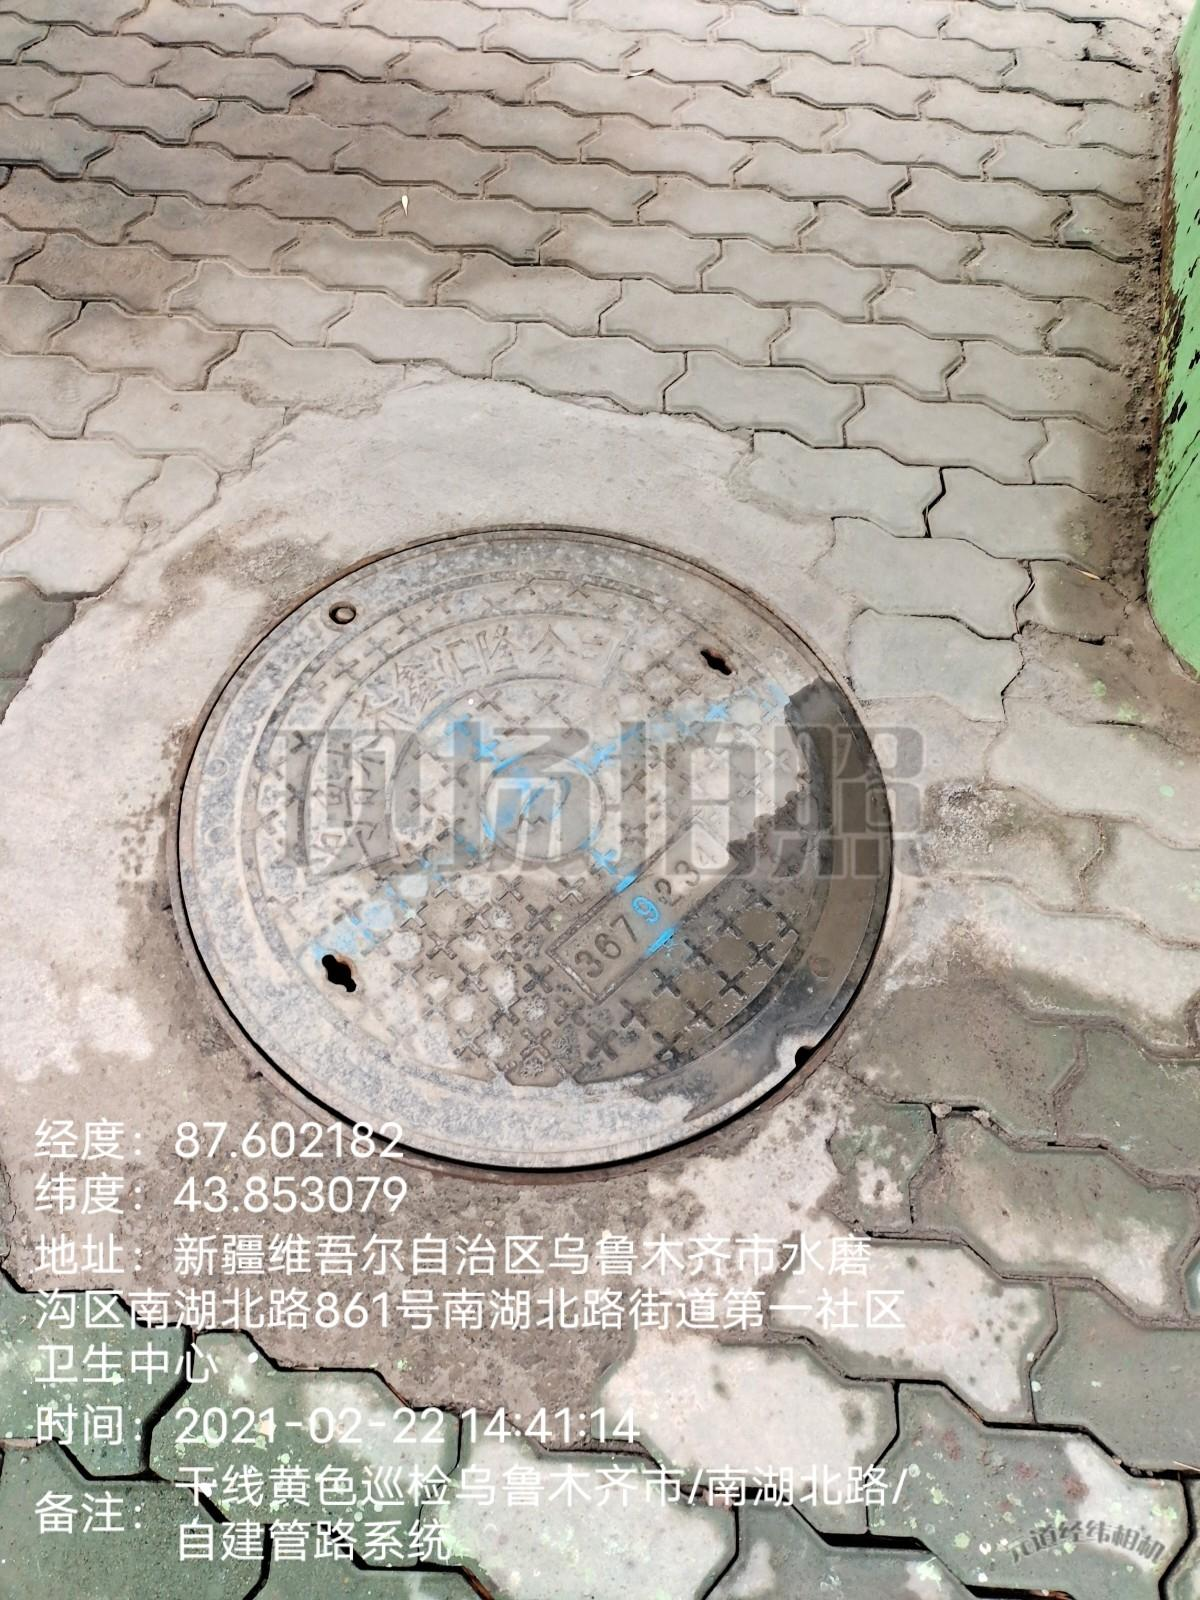wellcover: (101, 518, 997, 1186)
